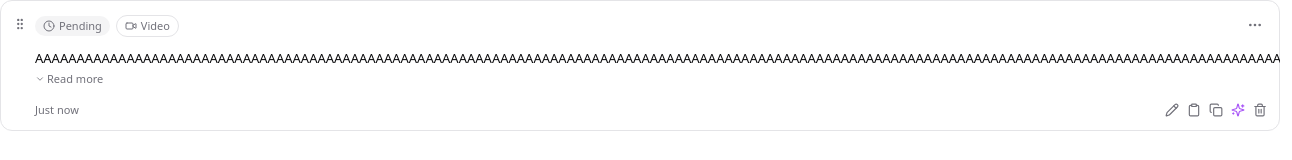
Test: PromptCard › should expand and collapse long text
This screenshot has width=1292, height=160.
Click the button "Read more": (69, 79) [35, 71, 103, 88]
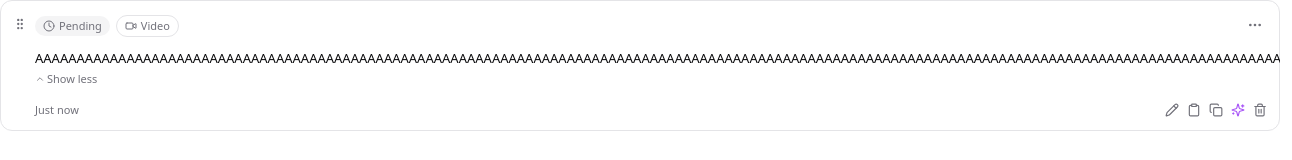
Expected: the button "Show less" is shown, [35, 71, 97, 88]
